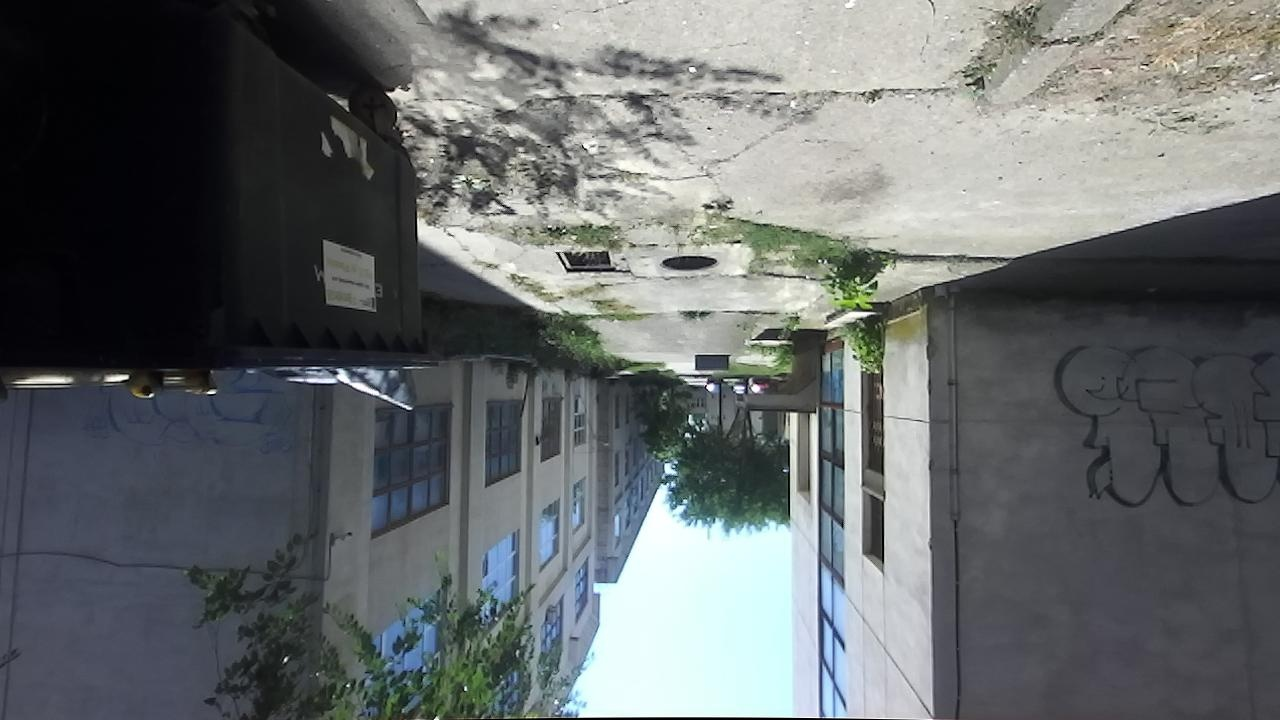drain: (548, 244, 617, 277), (657, 250, 721, 275)
